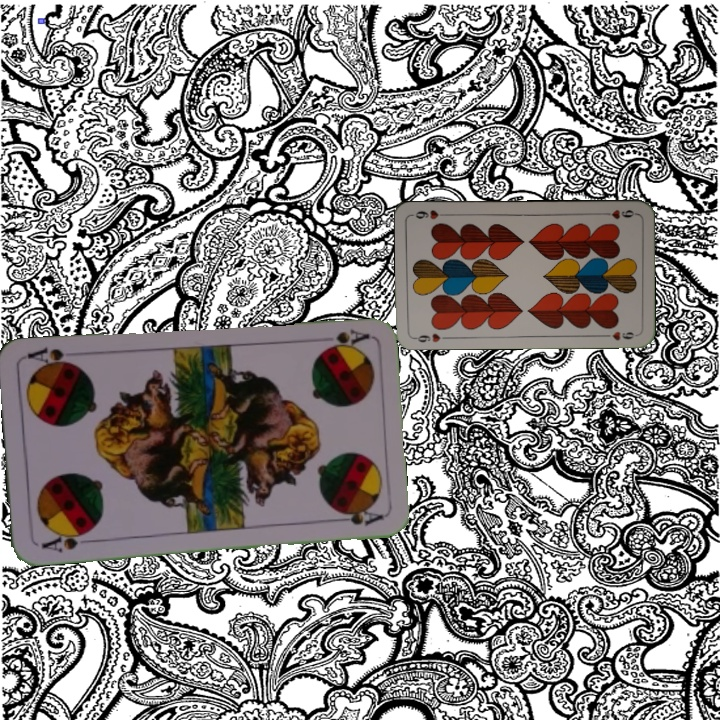H9: (410, 329, 450, 345), (598, 206, 638, 221)
SA: (37, 527, 94, 555), (320, 325, 371, 351)
